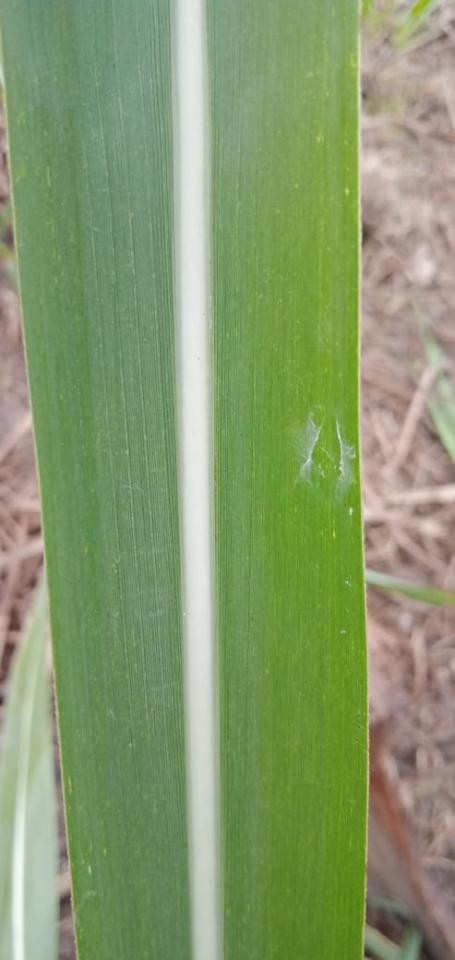Healthy: (0, 0, 366, 959)
